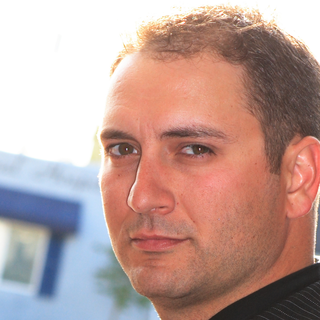eye: (167, 136, 221, 163), (100, 140, 142, 161)
